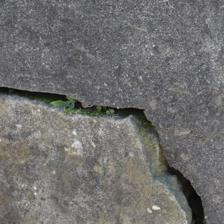Crack: (45, 49, 111, 159), (129, 26, 176, 130)
